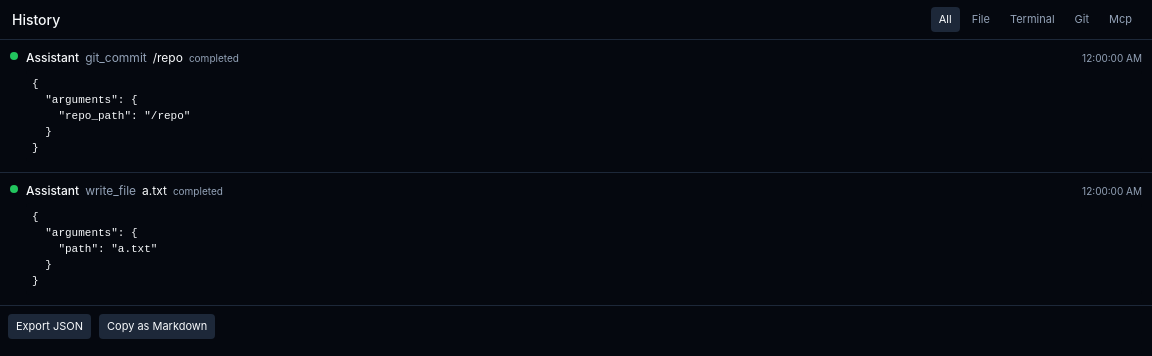
Scenario: HistoryPanel › the filter buttons narrow the visible events by real tool name
Click the button "git" at (1082, 20), box left=1066, top=7, right=1097, bottom=32
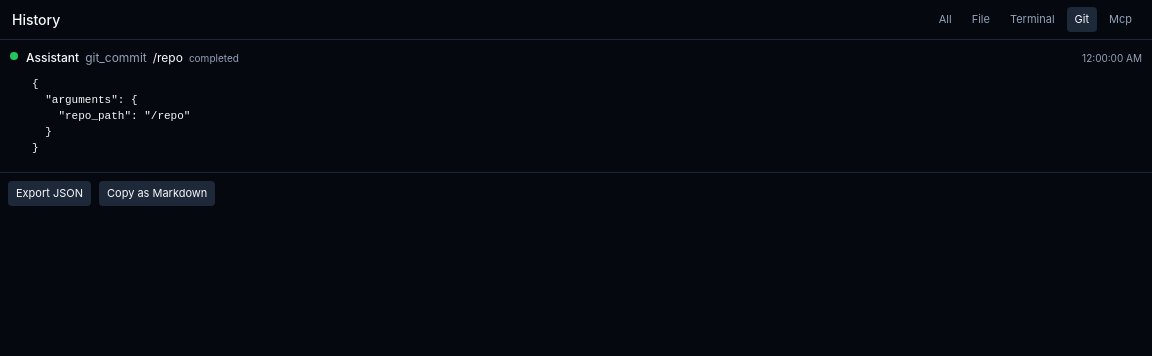
Expected: the text "git_commit" is shown, left=85, top=50, right=147, bottom=66
Expected: the text "write_file" is gone
